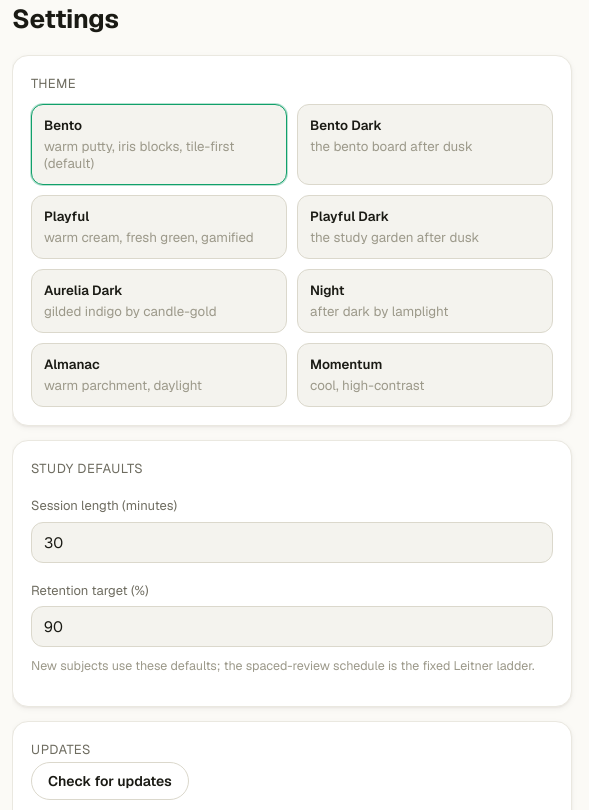
Test: Settings — updates › reports up-to-date after a check finds nothing
Click the button with test id "check-updates": (110, 781) 31,762 -> 189,800
(page scrolled)
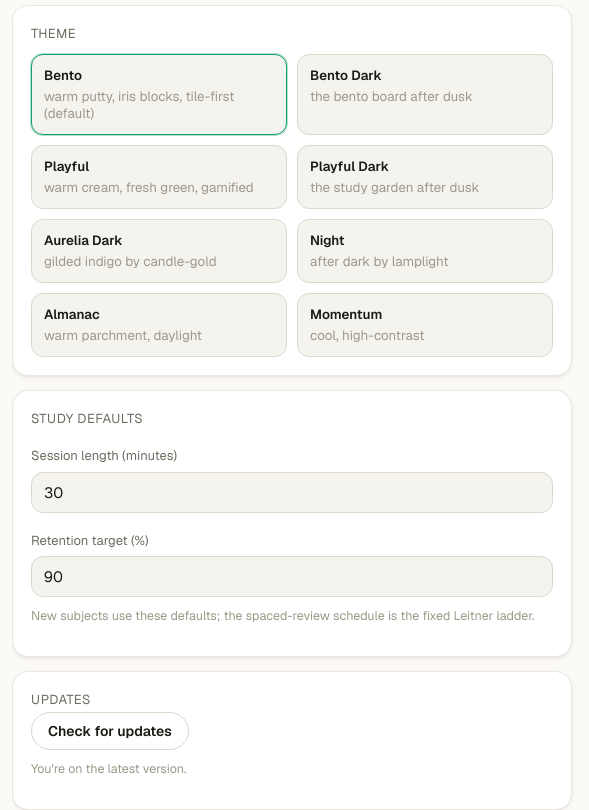
Expected: the text "You're on the latest version." is shown, 31,760 -> 186,777
